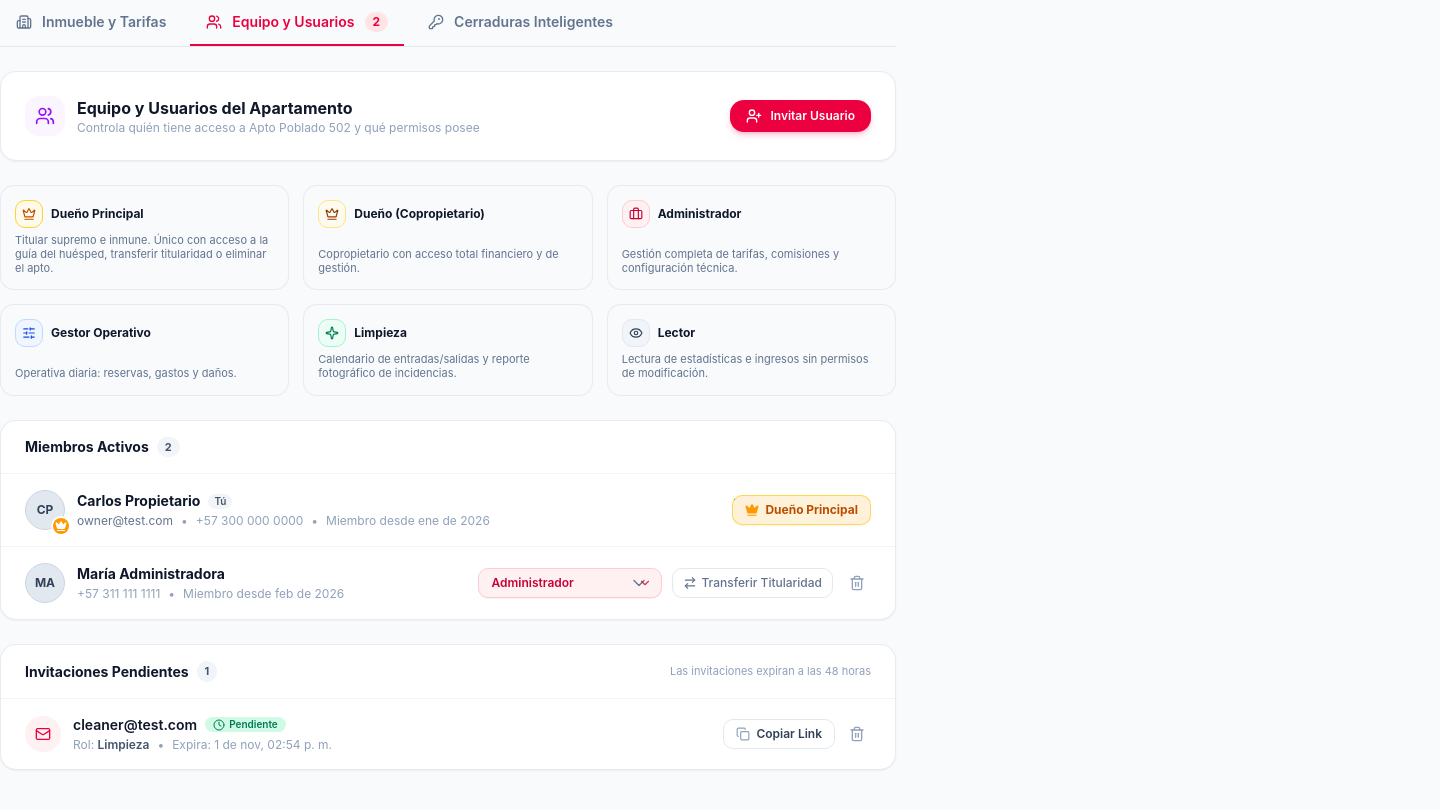
Test: Settings Route - Tabs & Team Management › opens Invite User modal when clicking Invitar Usuario button
Click the button "Invitar Usuario" at (801, 116), box [730,100,871,132]
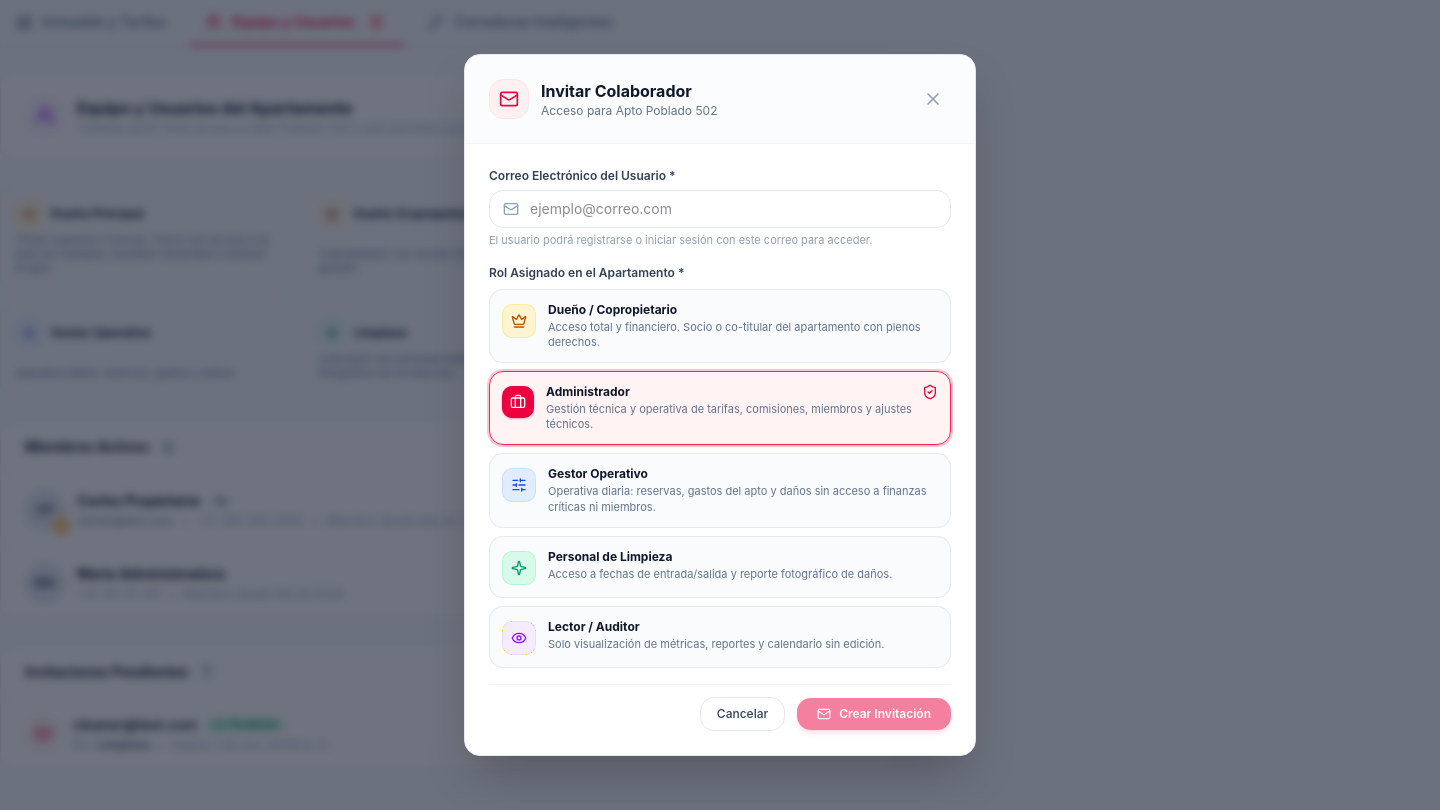
Expected: the heading "Invitar Colaborador" is shown, [541,79,718,103]
Expected: the field with placeholder "ejemplo@correo.com" is shown, [489,190,951,228]
